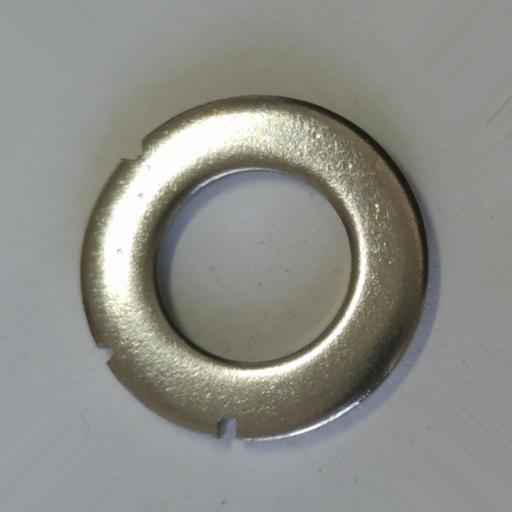burr: (215, 414, 239, 441), (122, 138, 145, 163), (96, 343, 117, 364)
